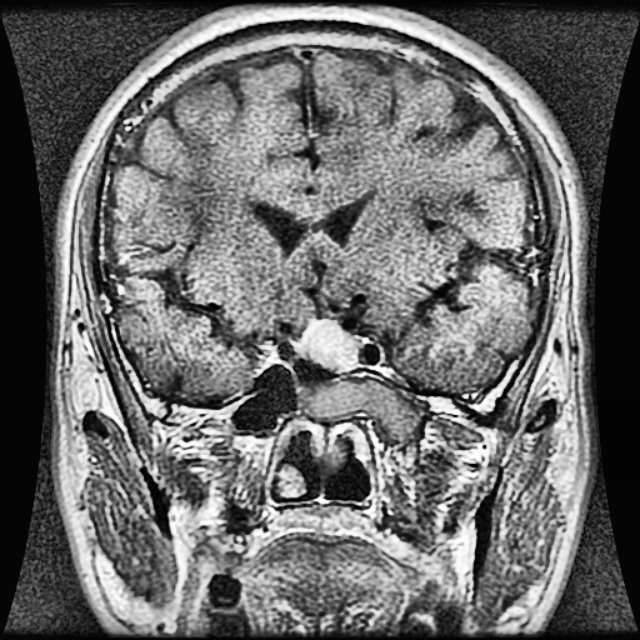Pituitary: (300, 320, 358, 374)
